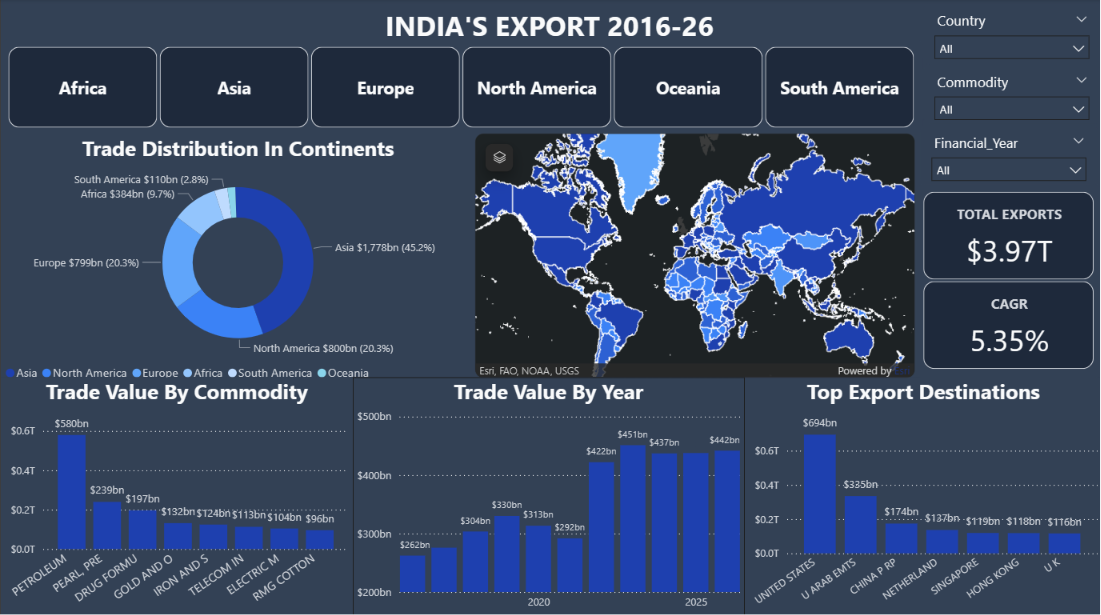

What the dashboard file says about the page in this screenshot:
{"tool":"powerbi","page":{"name":"2016-2026","canvas":[1280,720],"ordinal":1},"visuals":[{"type":"textbox","box":[0,0,1280,61.5],"z":0},{"type":"advancedSlicerVisual","fields":{"Label":["Sum(export fy25.Trade_Value_USD)"],"Values":["export fy16_26.Continent"]},"box":[0,47.1,1072.5,112.2],"z":1000},{"type":"donutChart","title":"Trade Distribution In Continents","fields":{"Y":["Sum(export fy16_26.Trade_Value_USD)"],"Category":["export fy16_26.Continent"]},"box":[0,156.5,551.8,296.5],"z":2000},{"type":"columnChart","title":"Top Export Destinations","fields":{"Category":["export fy16_26.Country"],"Y":["Sum(export fy16_26.Trade_Value_USD)"]},"box":[864.7,440,415.3,280],"z":3000},{"type":"columnChart","title":"Trade Value By Commodity","fields":{"Y":["Sum(export fy16_26.Trade_Value_USD)"],"Category":["export fy16_26.Short_Commodity"]},"box":[0,440,409.4,280],"z":4000},{"type":"slicer","fields":{"Values":["export fy16_26.Country"]},"box":[1072.5,4.8,207.5,71.2],"z":5000},{"type":"slicer","fields":{"Values":["export fy16_26.Commodity"]},"box":[1072.5,76,207.5,70],"z":6000},{"type":"cardVisual","fields":{"Data":["Sum(export fy16_26.Trade_Value_USD)","export fy16_26.CAGR"]},"box":[1063.5,215.4,216.8,225],"z":7000},{"type":"esriVisual","fields":{"Location":["export fy16_26.Country"],"Color":["export fy16_26.Country_Rank"]},"box":[551.5,155.3,512.4,284.9],"z":8000},{"type":"slicer","fields":{"Values":["export fy16_26.Financial_Year"]},"box":[1068.9,146,207.5,70],"z":9000},{"type":"lineClusteredColumnComboChart","title":"Trade Value By Year","fields":{"Category":["export fy16_26.Financial_Year"],"Y":["Sum(export fy16_26.Trade_Value_USD)"]},"box":[409.4,440,455.3,280],"z":10000}]}

Visuals, with their boxes in screenshot pixels (x1, y1, x2, y2), scaled from the page's 1280x720 canvas onto the 1101x615 screenshot:
textbox: <box>0,0,1100,53</box>
advancedSlicerVisual - Sum(export fy25.Trade_Value_USD) x export fy16_26.Continent: <box>0,40,923,136</box>
"Trade Distribution In Continents" donutChart: <box>0,134,475,387</box>
"Top Export Destinations" columnChart: <box>744,376,1100,614</box>
"Trade Value By Commodity" columnChart: <box>0,376,352,614</box>
slicer - export fy16_26.Country: <box>923,4,1100,65</box>
slicer - export fy16_26.Commodity: <box>923,65,1100,125</box>
cardVisual - Sum(export fy16_26.Trade_Value_USD) x export fy16_26.CAGR: <box>915,184,1100,376</box>
esriVisual - export fy16_26.Country x export fy16_26.Country_Rank: <box>474,133,915,376</box>
slicer - export fy16_26.Financial_Year: <box>919,125,1098,184</box>
"Trade Value By Year" lineClusteredColumnComboChart: <box>352,376,744,614</box>
